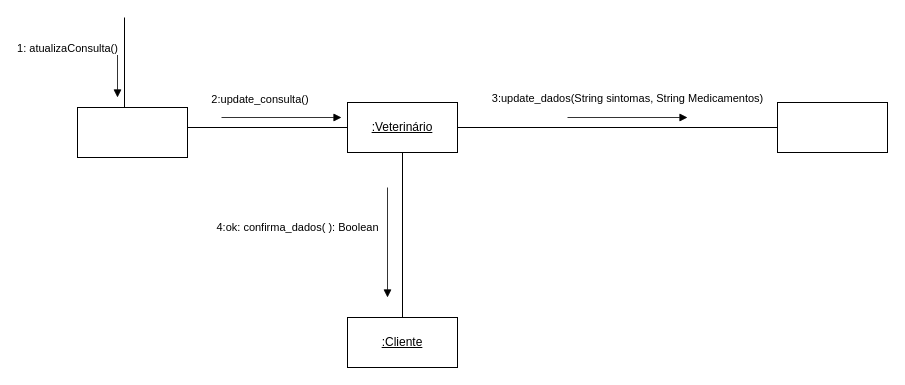
Some shapes in this 905 by 385 pixel diagram are drawn without their labels. The box of each missing label's shape, as (x1, y1, x2, y2) in pixels:
:Consulta: (776, 102, 888, 152)
:Sistema: (76, 106, 188, 158)
